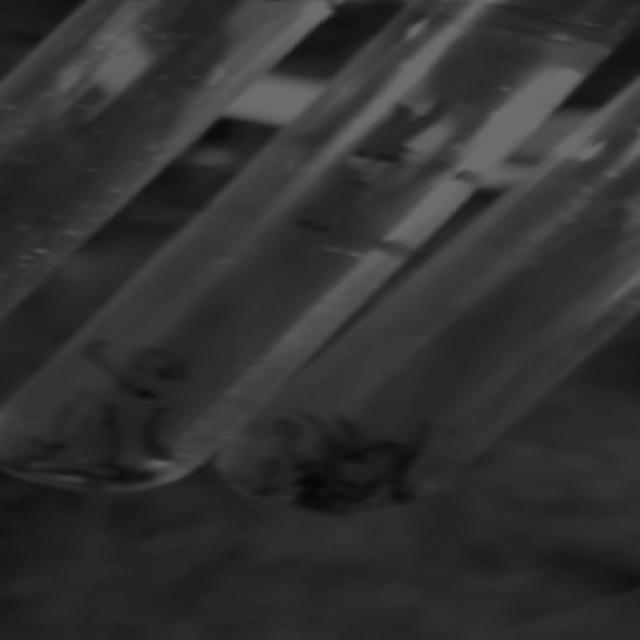larvas: (376, 104, 454, 165), (81, 346, 156, 402), (349, 102, 417, 161), (299, 180, 373, 231), (22, 465, 128, 486), (239, 457, 283, 494), (402, 421, 421, 502), (304, 416, 342, 456), (148, 402, 174, 460), (269, 418, 304, 459), (304, 486, 393, 502), (26, 437, 76, 463), (136, 349, 182, 376), (107, 405, 127, 466), (346, 443, 397, 462), (304, 474, 360, 488), (337, 412, 358, 443)
